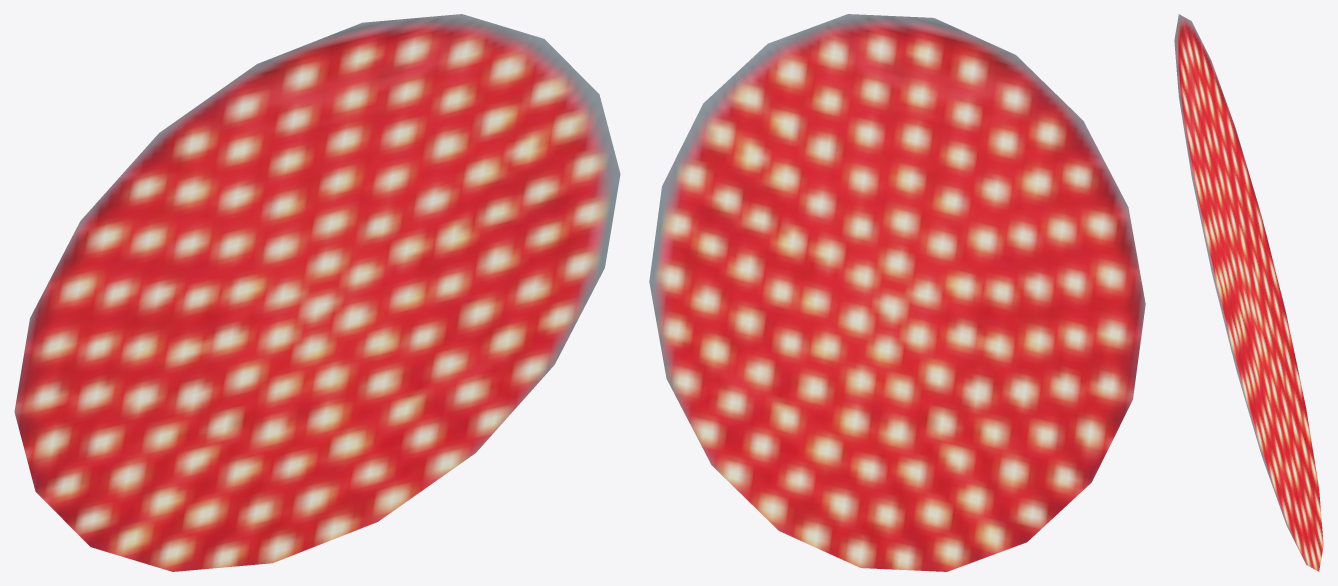
Rendered from L_CarRed.glb.
3 views of the same model, side by side, from view 1: azimuth 30°, elevation 25°; view 2: azimuth 150°, elevation 25°; view 3: azimuth 270°, elevation 25° (orthographic). The views are drawn at different scales.
Parts seen in each view (by area): view 1: L赤; view 2: L赤; view 3: L赤.
Boxes of the visible parts, <box> form: L赤: <box>14,14,620,571</box>; L赤: <box>649,14,1145,571</box>; L赤: <box>1174,14,1323,571</box>.
Size of the model in its own units: 0.2462 by 0.2415 by 0.0647.
Materials: 1 (1 with a texture image).
